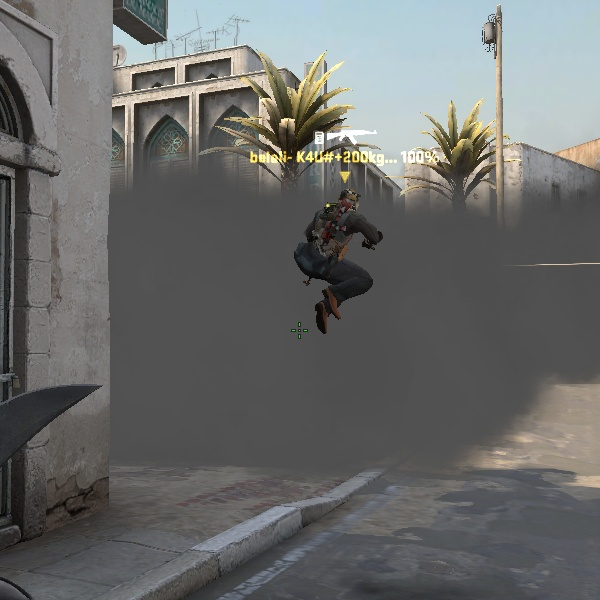t_body: (291, 184, 384, 339)
t_head: (330, 182, 363, 217)
